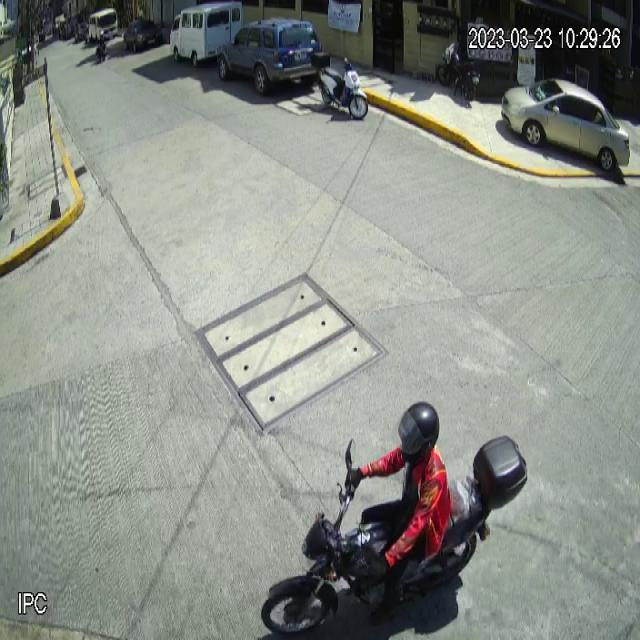Car: (501, 77, 631, 173), (216, 16, 323, 98)
Motorcycle: (260, 439, 487, 640), (311, 51, 368, 120)
Van: (169, 0, 243, 68)
